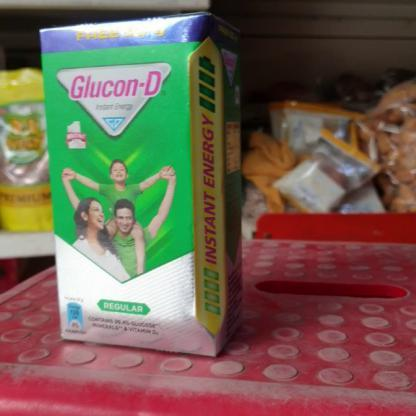Glucon D Regular 1-KG: (52, 24, 220, 346)
